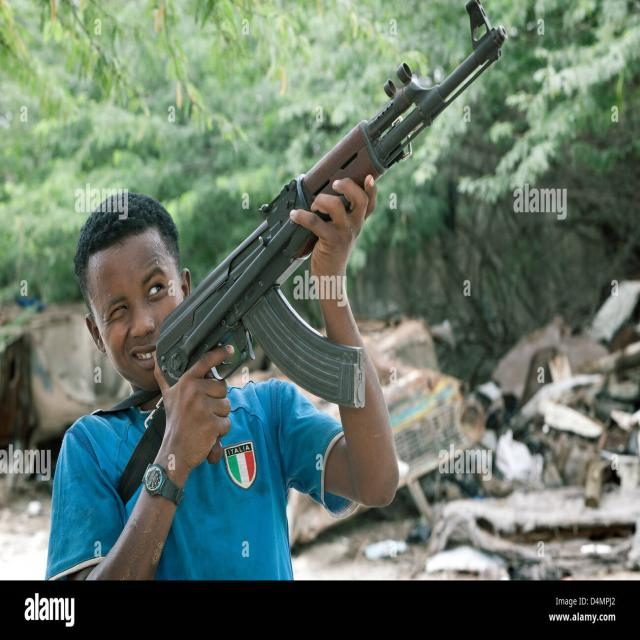heavy-weapon: (117, 0, 510, 506)
